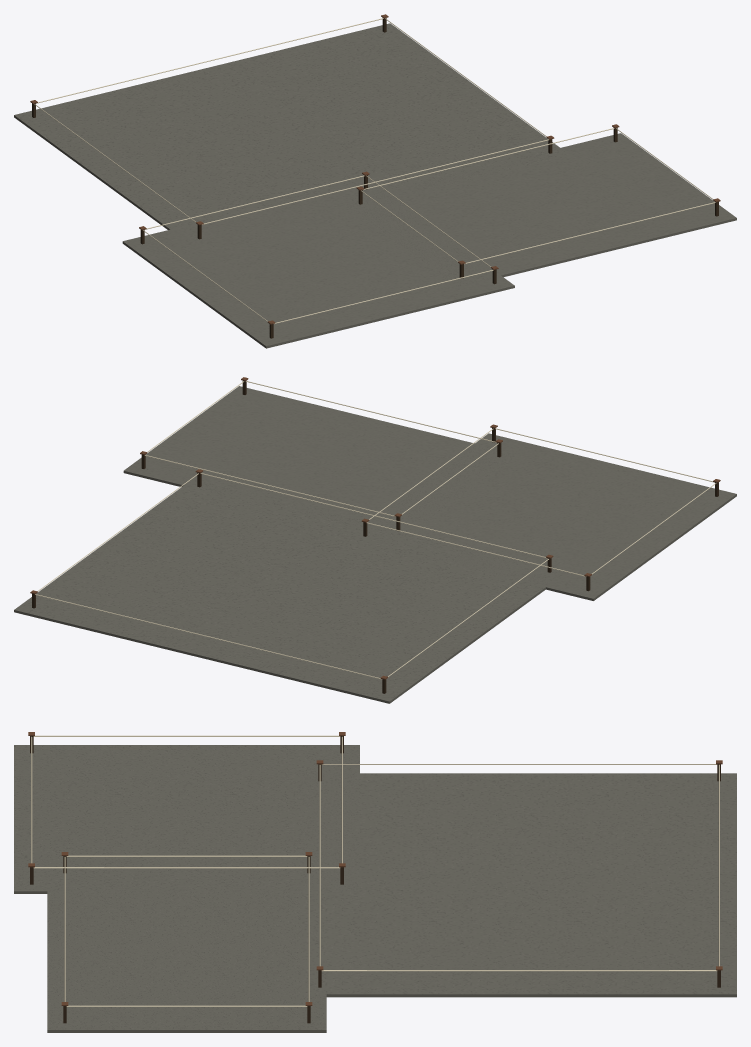
The model's file is fun-8-site.glb.
3 renders of one model, top to bottom at view 1: azimuth 30°, elevation 25°; view 2: azimuth 150°, elevation 25°; view 3: azimuth 270°, elevation 25°, orthographic. The views are drawn at different scales.
Bounding box in the file's own units: 30.4 × 1.09 × 32.6.
Materials: 4 (1 with a texture image).
